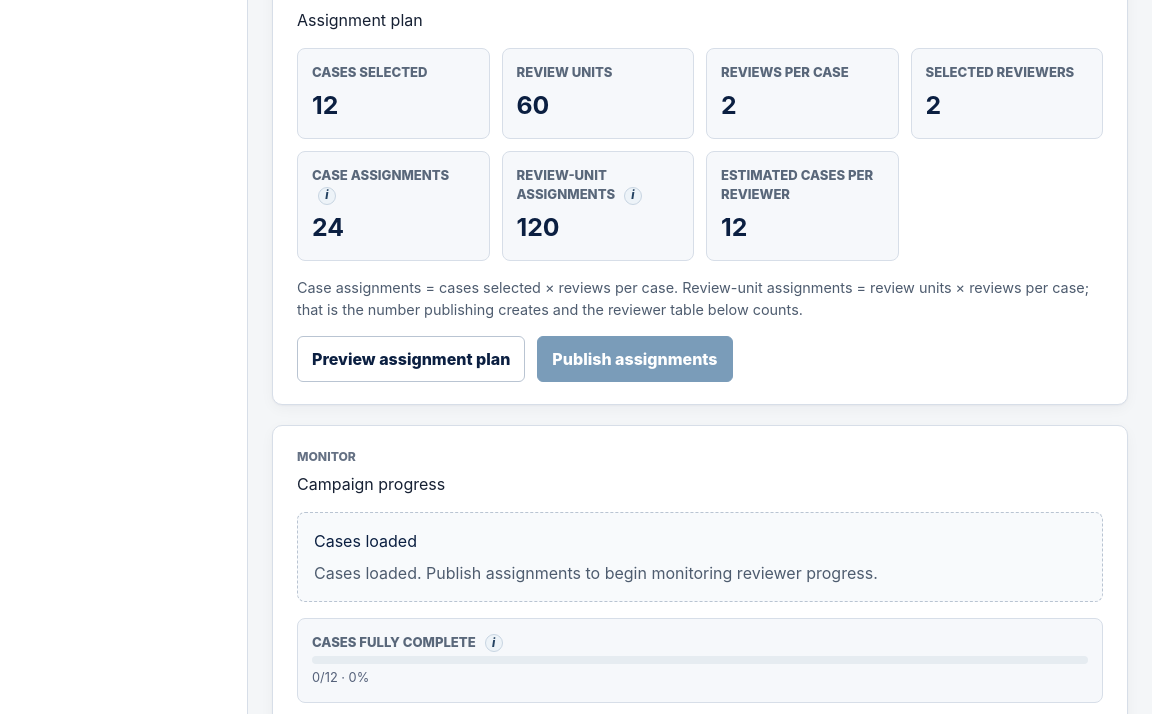
reviewers workflows › previews and publishes an assignment plan for a feasible campaign with more cases than reviewers
(page scrolled)
Click the button "Preview assignment plan". click: (411, 360)
box: [297,336,525,382]
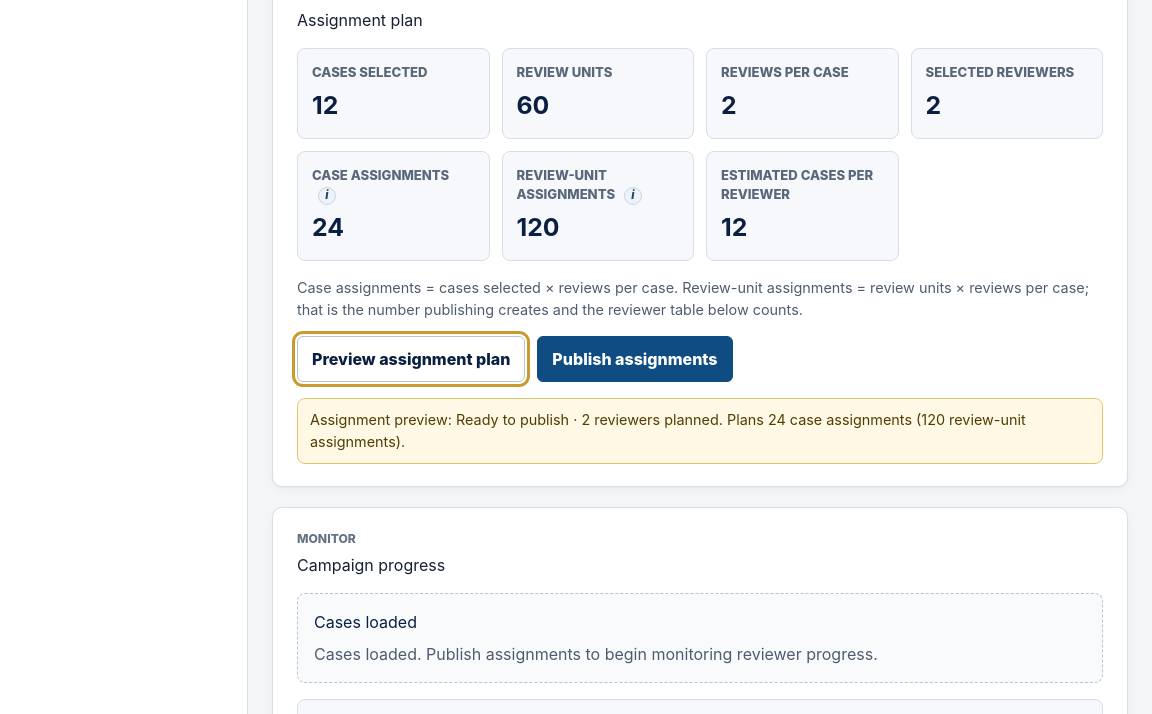
Result: the text "Assignment preview: Ready to publish" is shown at [310,410,1090,453]
Click the button "Publish assignments". click: (635, 360)
box: [537,336,733,382]
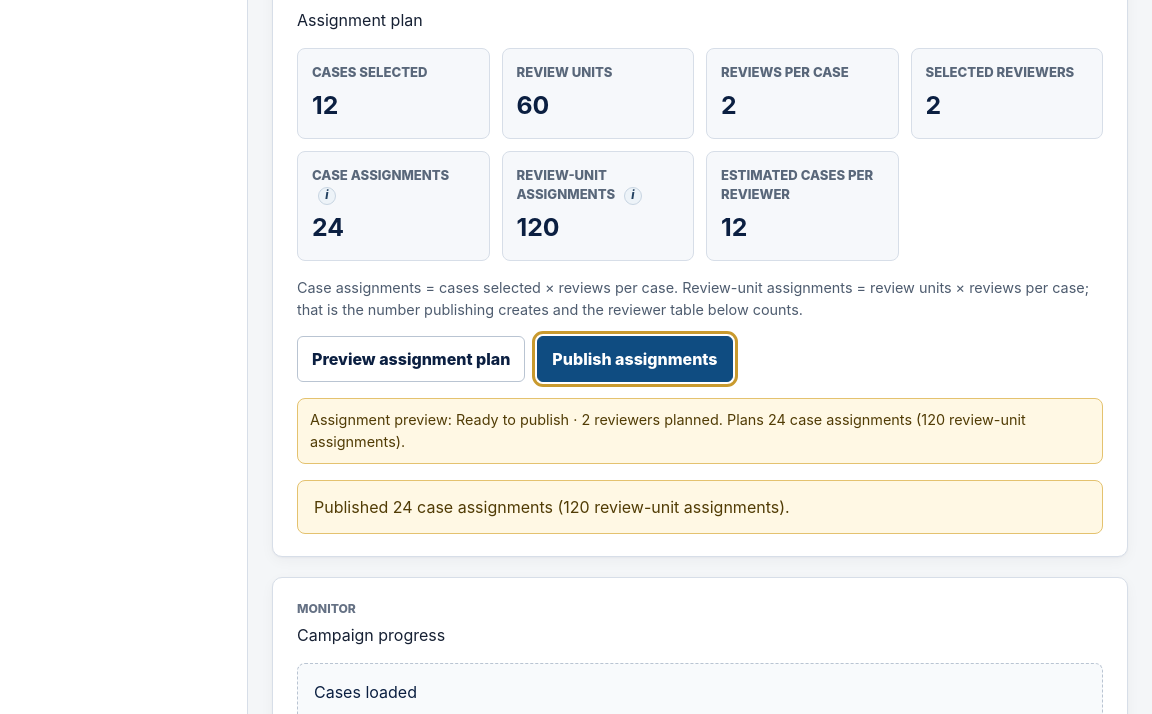
Result: the text "Published 24 case assignments (120 review-unit assignments)." is shown at [314,497,790,517]
